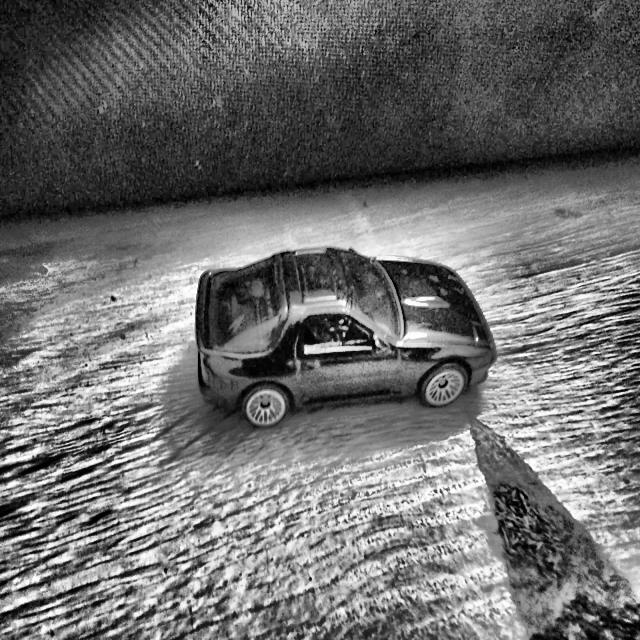car: (194, 244, 496, 428)
